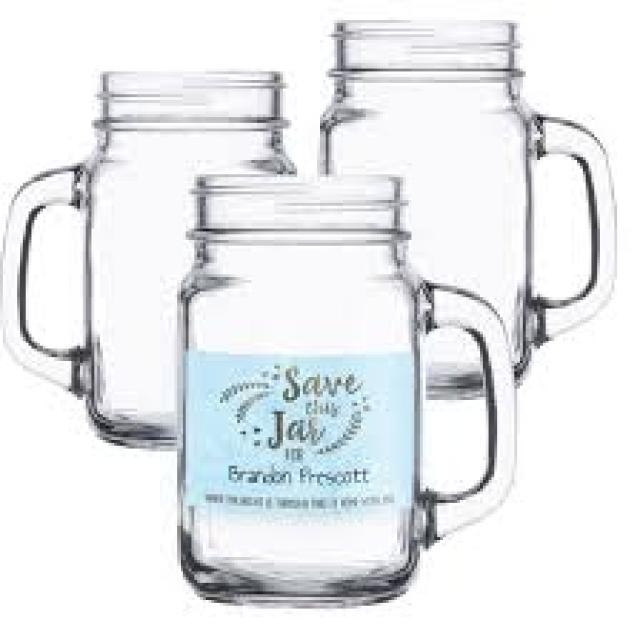glass: (177, 171, 514, 606), (317, 15, 612, 395), (3, 69, 291, 452)
